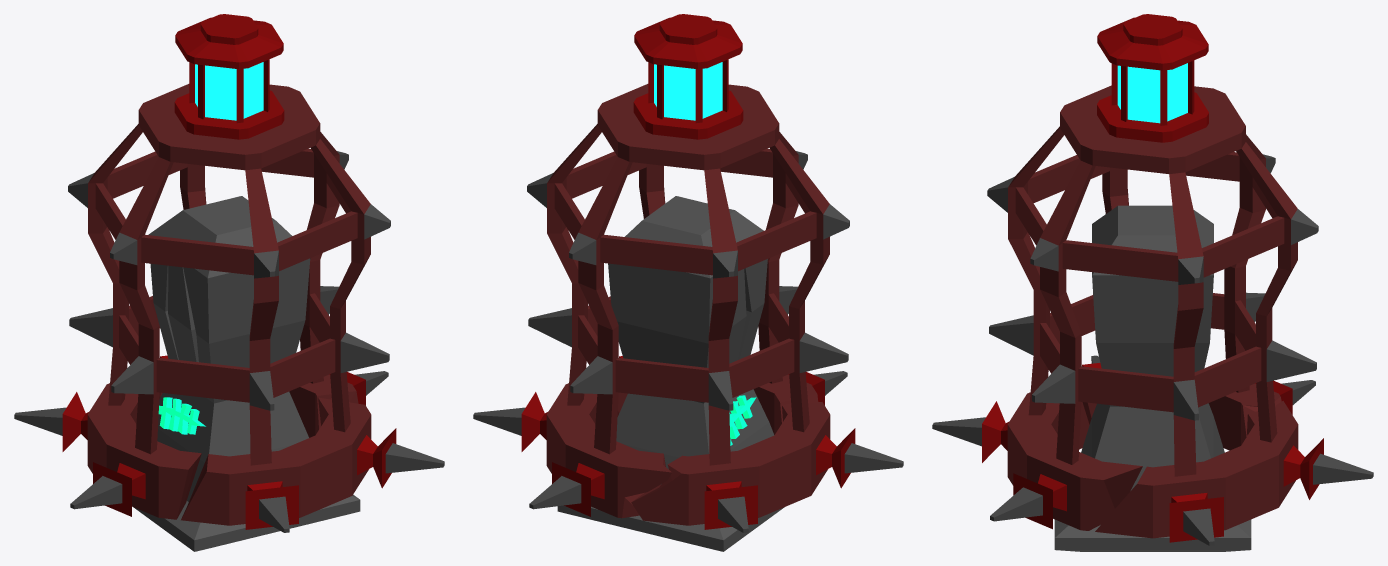
The model's file is Prisioner.fbx.
The picture shows the model from 3 angles, left to right: view 1: azimuth 30°, elevation 25°; view 2: azimuth 150°, elevation 25°; view 3: azimuth 270°, elevation 25°; orthographic projection. The views are drawn at different scales.
Visible parts, largest first — view 1: Cage, Prisioner; view 2: Cage, Prisioner; view 3: Cage, Prisioner.
Boxes of the visible parts, <box> form: Cage: <box>14,14,444,532</box>; Prisioner: <box>133,196,360,551</box>; Cage: <box>473,14,903,532</box>; Prisioner: <box>557,196,784,551</box>; Cage: <box>932,14,1373,545</box>; Prisioner: <box>1054,205,1251,551</box>.
Size of the model in its own units: 182 by 226 by 182.
